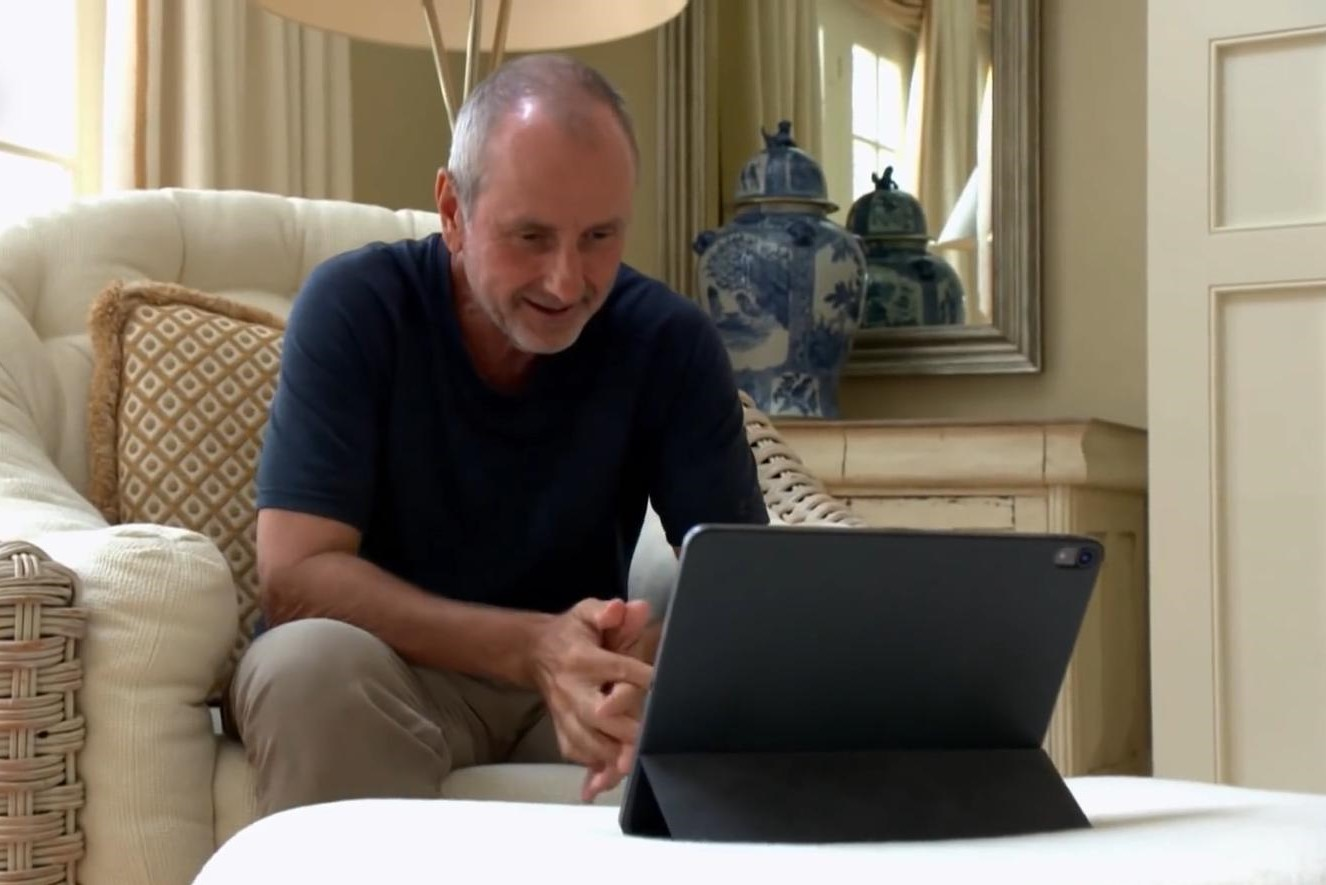without_mask: (500, 194, 602, 322)
